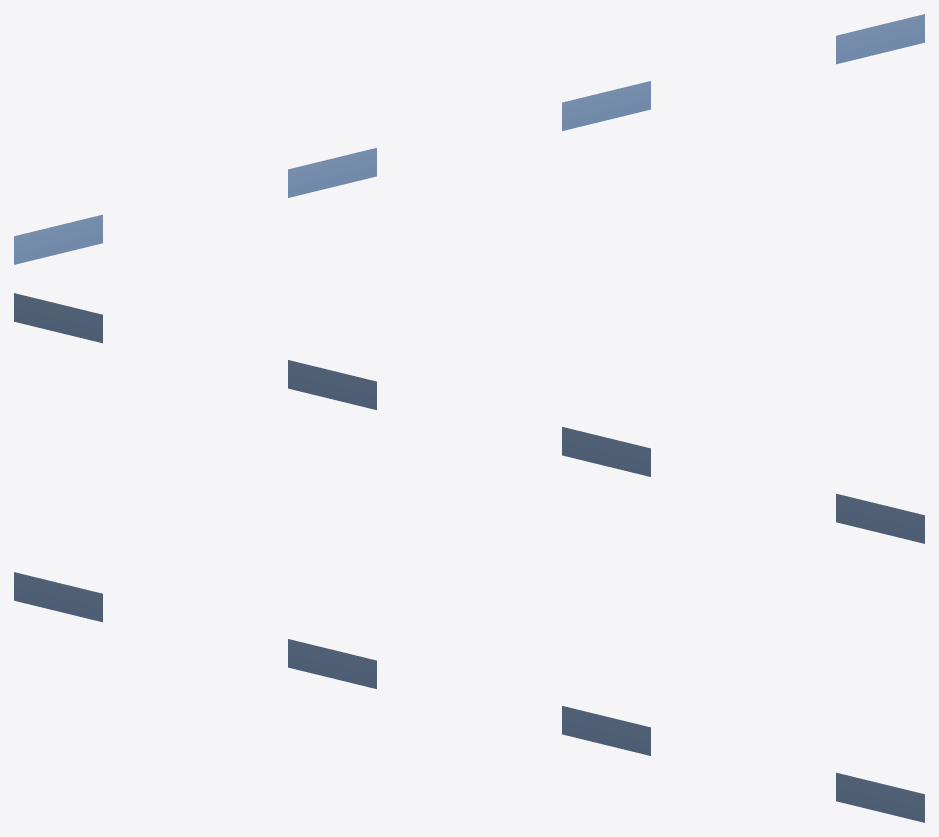
Rendered from 036_3_0_building-s_1.glb.
The picture shows the model from 3 angles, top to bottom: view 1: azimuth 30°, elevation 25°; view 2: azimuth 150°, elevation 25°; view 3: azimuth 330°, elevation 25°; orthographic projection.
Parts seen in each view (by area): view 1: 3_0_building-s_1; view 2: 3_0_building-s_1; view 3: 3_0_building-s_1.
Boxes of the visible parts, box(x1,y1,x2,y2) form: 3_0_building-s_1: box(14, 14, 924, 264); 3_0_building-s_1: box(14, 293, 924, 543); 3_0_building-s_1: box(14, 572, 924, 822).
Size of the model in its own units: 1.33 by 0.04 by 0.
1 material, 1 textured.
